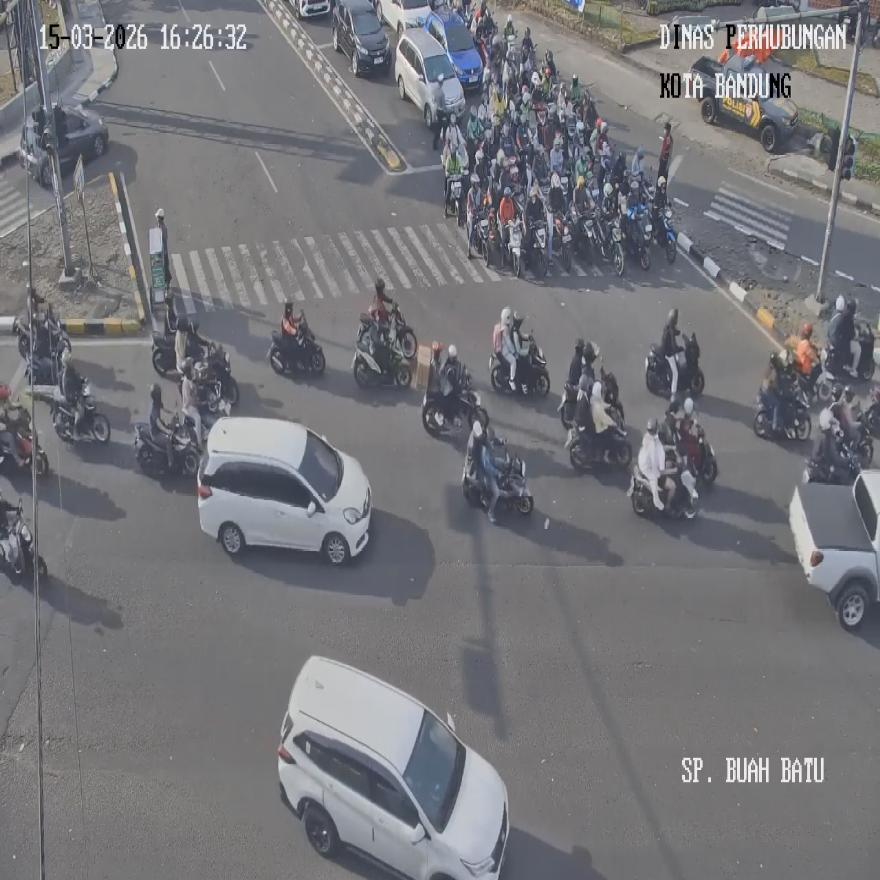Motor: (276, 655, 509, 879), (197, 415, 372, 564), (689, 49, 797, 150), (394, 26, 464, 130), (334, 0, 391, 76)
Truk: (463, 447, 533, 516), (353, 316, 415, 388), (660, 412, 717, 489), (133, 413, 200, 477), (422, 364, 484, 432), (628, 460, 699, 518), (151, 316, 217, 378), (646, 332, 705, 401), (51, 379, 111, 445), (0, 500, 46, 579), (269, 313, 324, 376), (190, 345, 239, 413), (489, 340, 548, 396), (753, 384, 810, 440), (566, 422, 632, 470), (823, 322, 874, 381), (802, 435, 861, 485), (0, 420, 48, 476), (795, 353, 833, 405), (623, 202, 652, 270), (649, 202, 677, 261), (521, 217, 548, 278), (468, 206, 495, 266), (575, 209, 601, 263), (550, 210, 572, 273), (603, 216, 625, 275), (505, 218, 524, 276), (557, 382, 579, 431), (445, 171, 463, 221)
